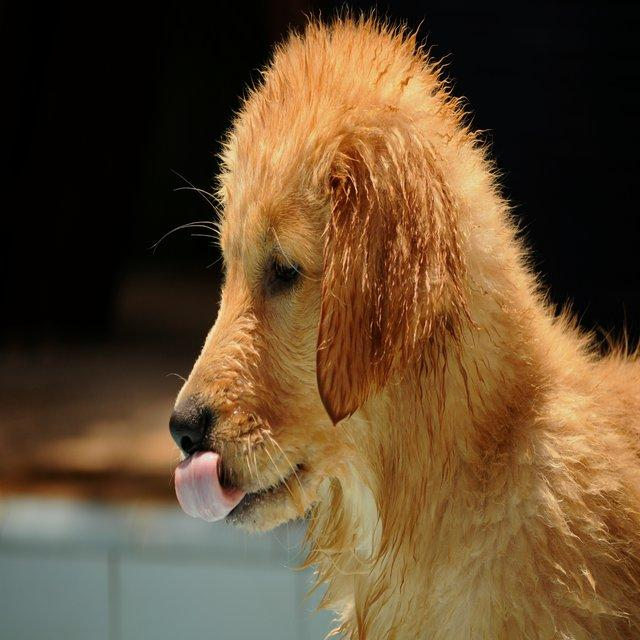retriever: (160, 6, 638, 638)
